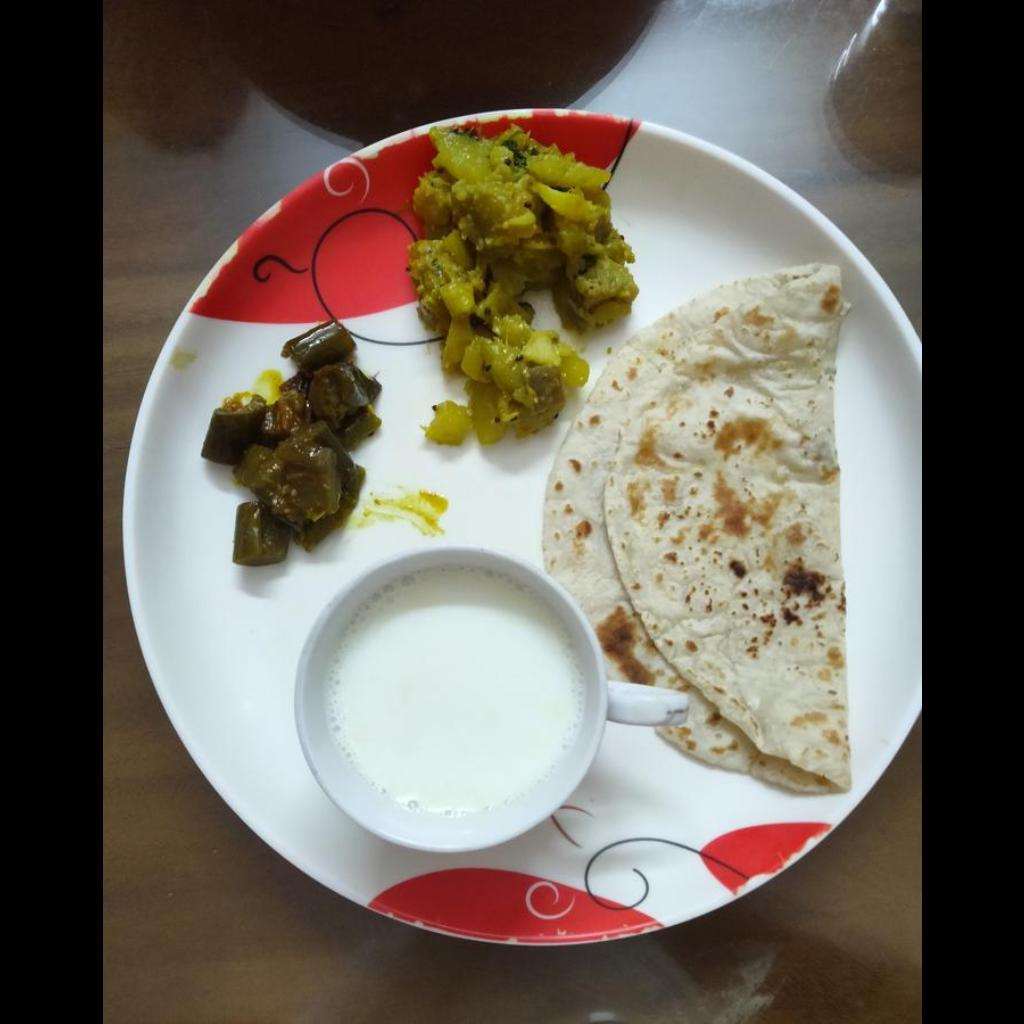milk: (326, 564, 584, 817)
okra: (202, 323, 378, 565)
ruti: (545, 263, 850, 789)
vegetable: (411, 129, 637, 444)
